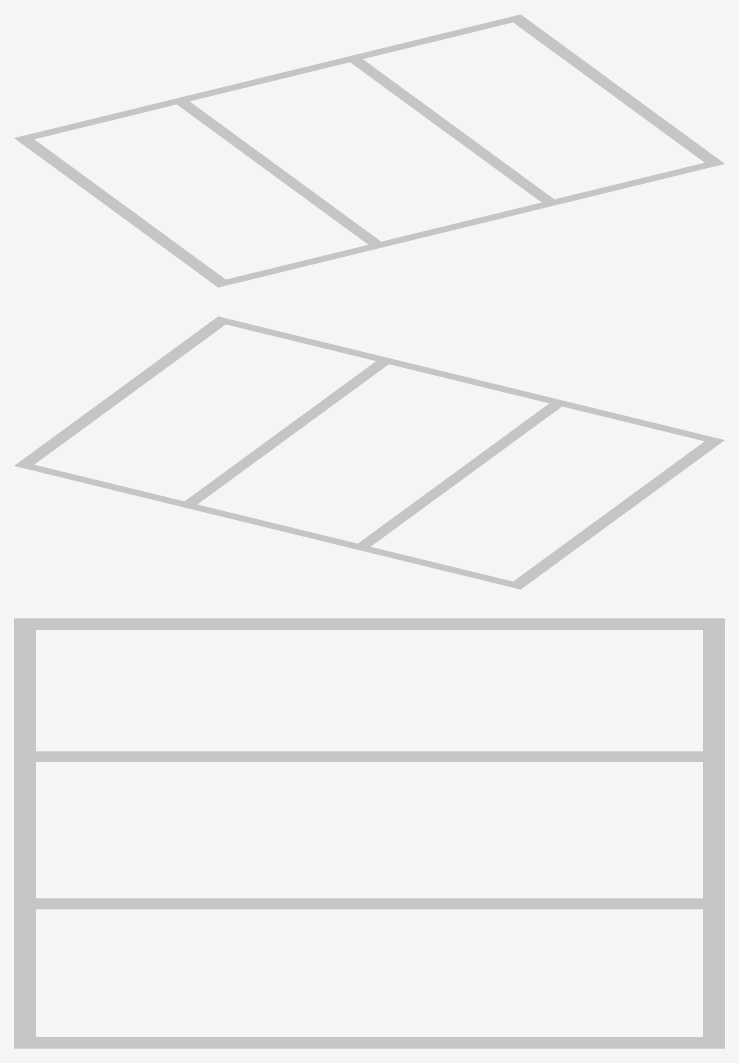
The model's file is kd_stage_136282_3_57_bounded.glb.
3 renders of one model, top to bottom at view 1: azimuth 30°, elevation 25°; view 2: azimuth 150°, elevation 25°; view 3: azimuth 270°, elevation 25°, orthographic. The views are drawn at different scales.
Visible parts, largest first — view 1: kd_stage_136282_3_57_bounded; view 2: kd_stage_136282_3_57_bounded; view 3: kd_stage_136282_3_57_bounded.
Part boxes in pixels (box(x1,y1,x2,y2)): kd_stage_136282_3_57_bounded: box(14, 14, 724, 287); kd_stage_136282_3_57_bounded: box(14, 316, 724, 589); kd_stage_136282_3_57_bounded: box(14, 618, 724, 1048).
Size of the model in its own units: 5.95 by 0 by 4.15.
1 material, 1 textured.
